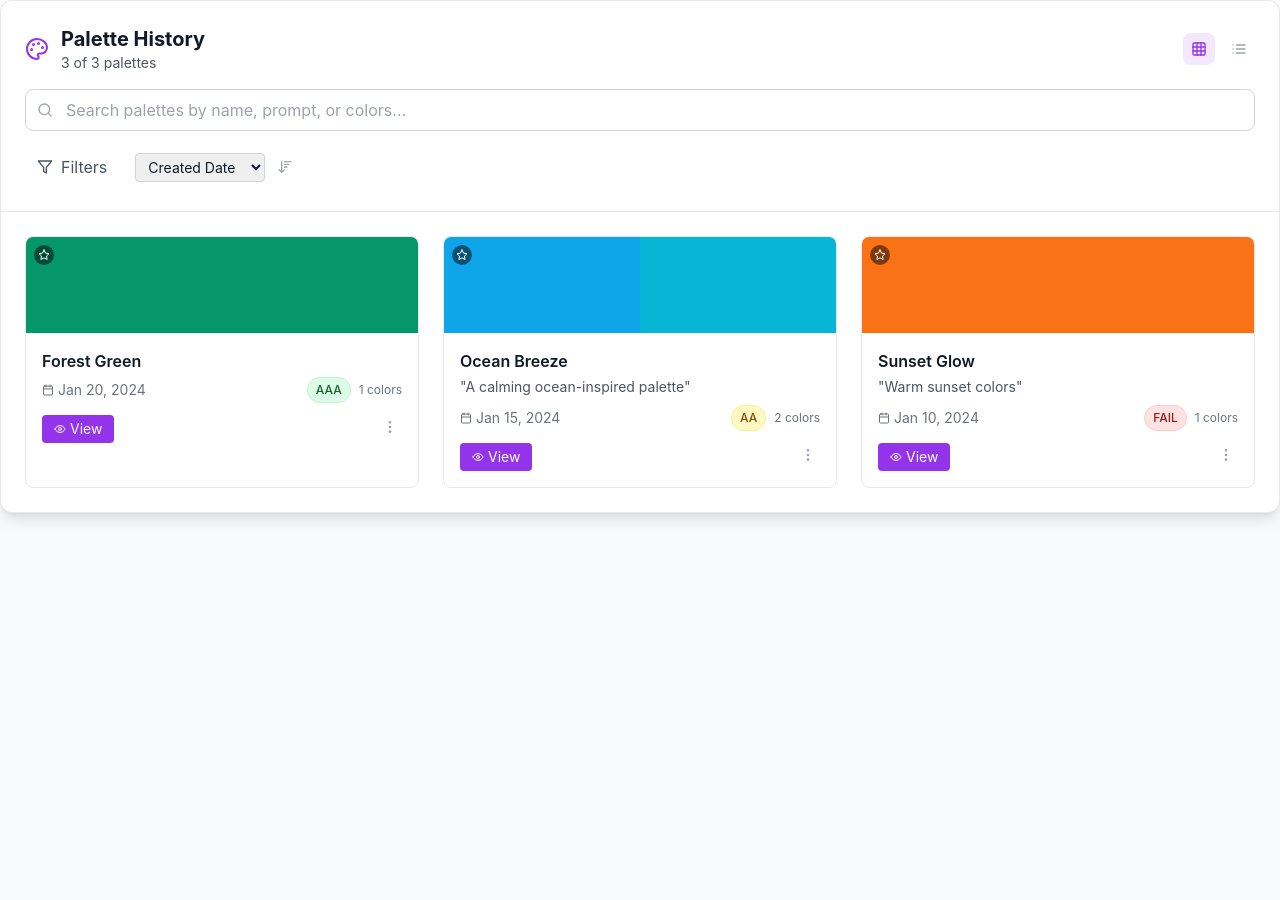
HistoryPanel › Filter Functionality › filters by accessibility level
// Open filters
Click the button "Filters": (72, 167) top-left (25, 147), bottom-right (119, 187)
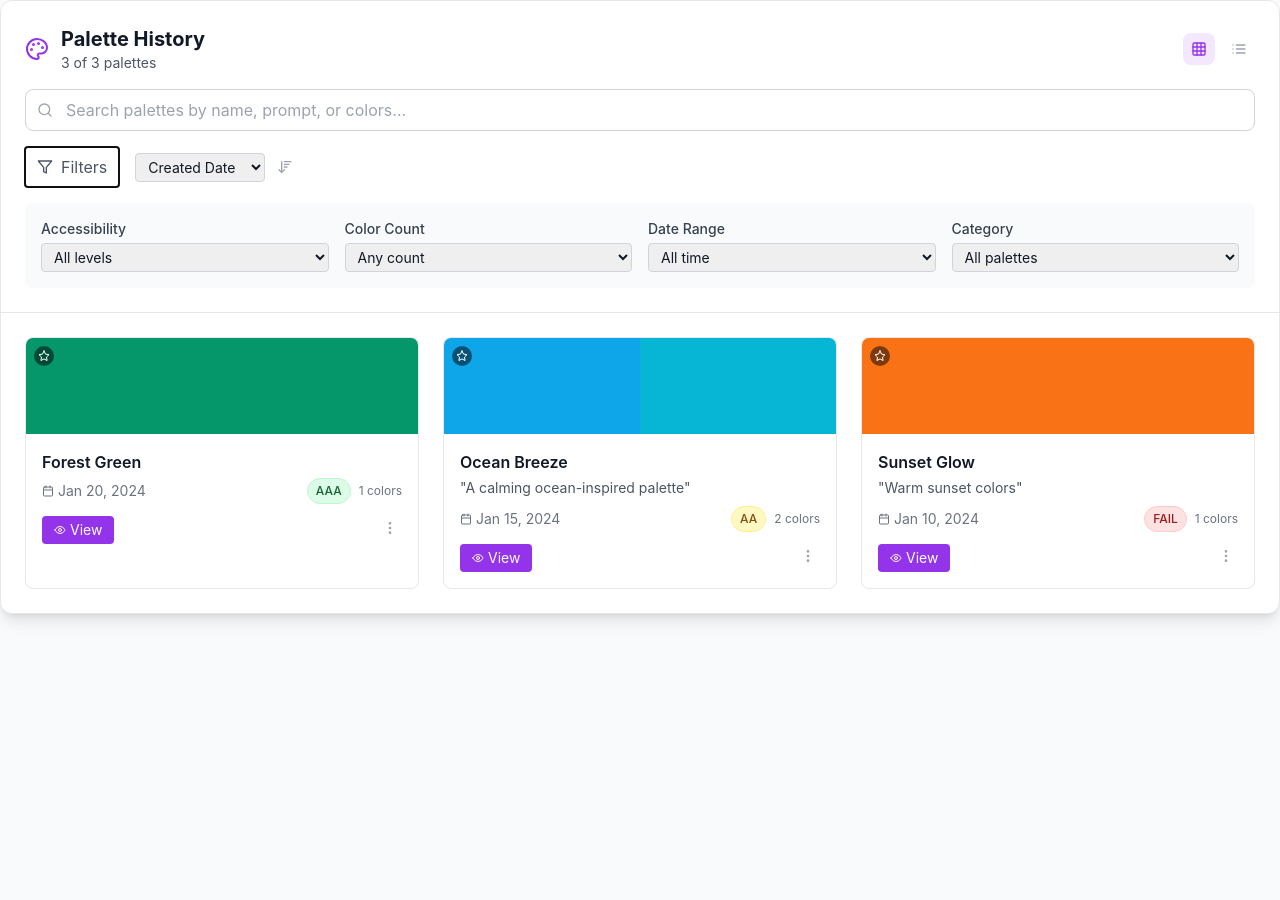
// Filter by AAA only
Select "AAA only" in the dropdown showing "All levels" below "Accessibility": (185, 258) top-left (41, 243), bottom-right (328, 272)
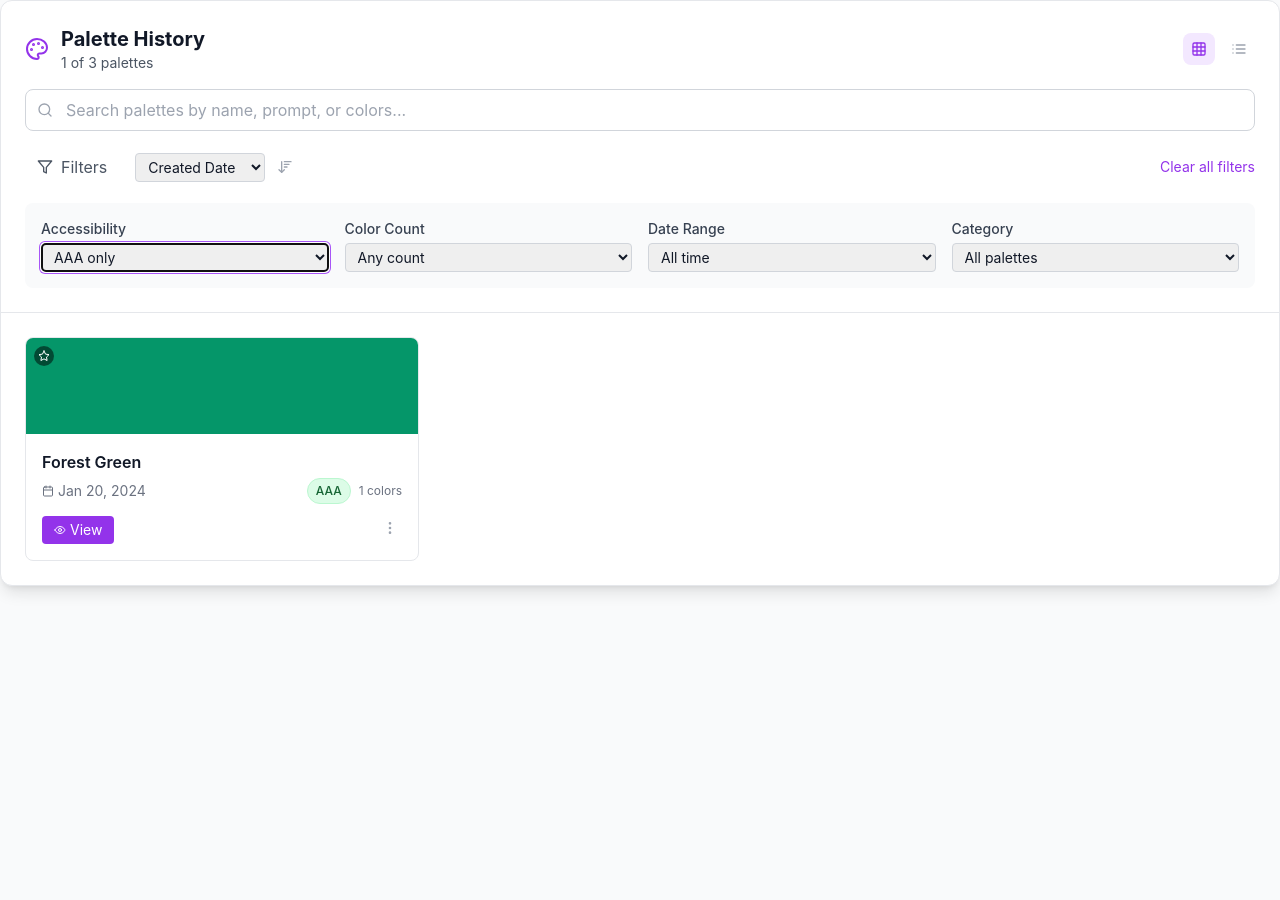
Check: the heading "Forest Green" is shown, box top-left (42, 452), bottom-right (141, 472)
Check: the heading "Ocean Breeze" is gone
Check: the heading "Sunset Glow" is gone
